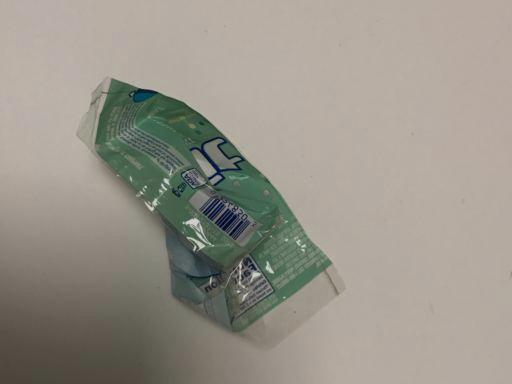trash: (73, 75, 345, 352)
